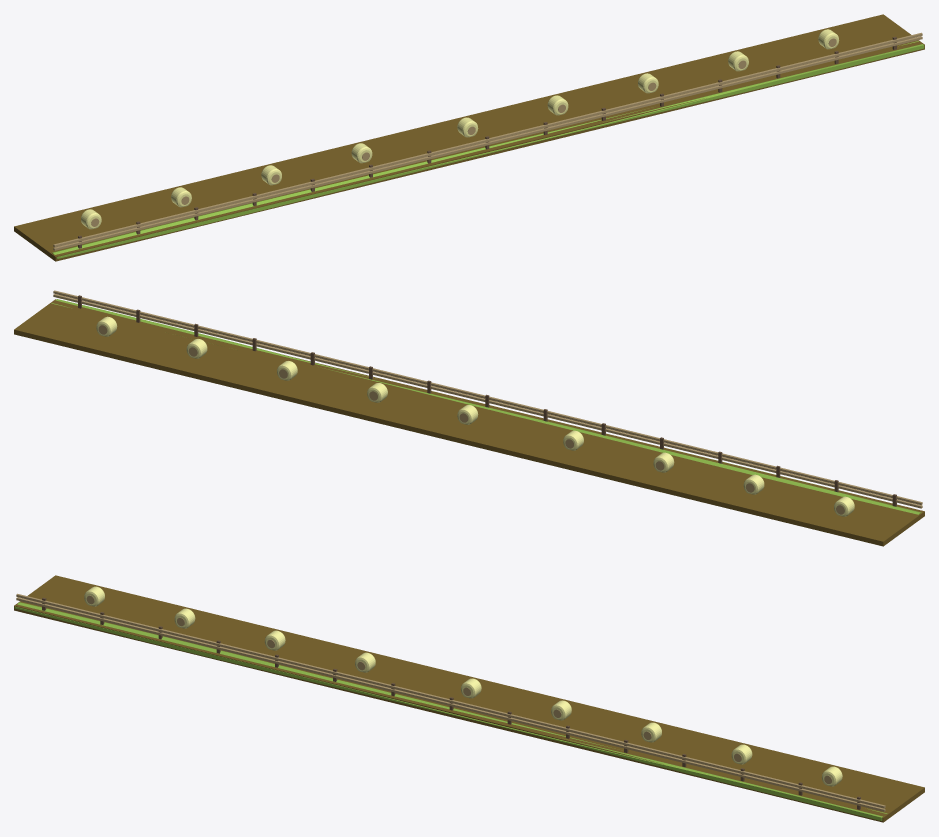
The model's file is country_opt.fbx.
3 renders of one model, top to bottom at view 1: azimuth 30°, elevation 25°; view 2: azimuth 150°, elevation 25°; view 3: azimuth 330°, elevation 25°, orthographic.
Parts seen in each view (by area): view 1: Cube.003, Cube.062, Cube.061, Cylinder.017; view 2: Cube.003, Cube.062, Cylinder.017, Cube.061; view 3: Cube.003, Cube.062, Cube.061, Cylinder.017.
Part boxes in pixels (x1,y1,x2,y2): Cube.003: (14,14,924,261); Cube.062: (53,32,922,250); Cube.061: (52,41,924,258); Cylinder.017: (81,29,839,229); Cube.003: (14,299,924,546); Cube.062: (53,290,922,508); Cylinder.017: (96,316,854,516); Cube.061: (51,299,921,514); Cube.003: (14,575,924,822); Cube.062: (16,593,885,811); Cube.061: (14,602,887,820); Cylinder.017: (84,586,842,786).
Bounding box in the file's own units: 259498 × 5585 × 21702.
